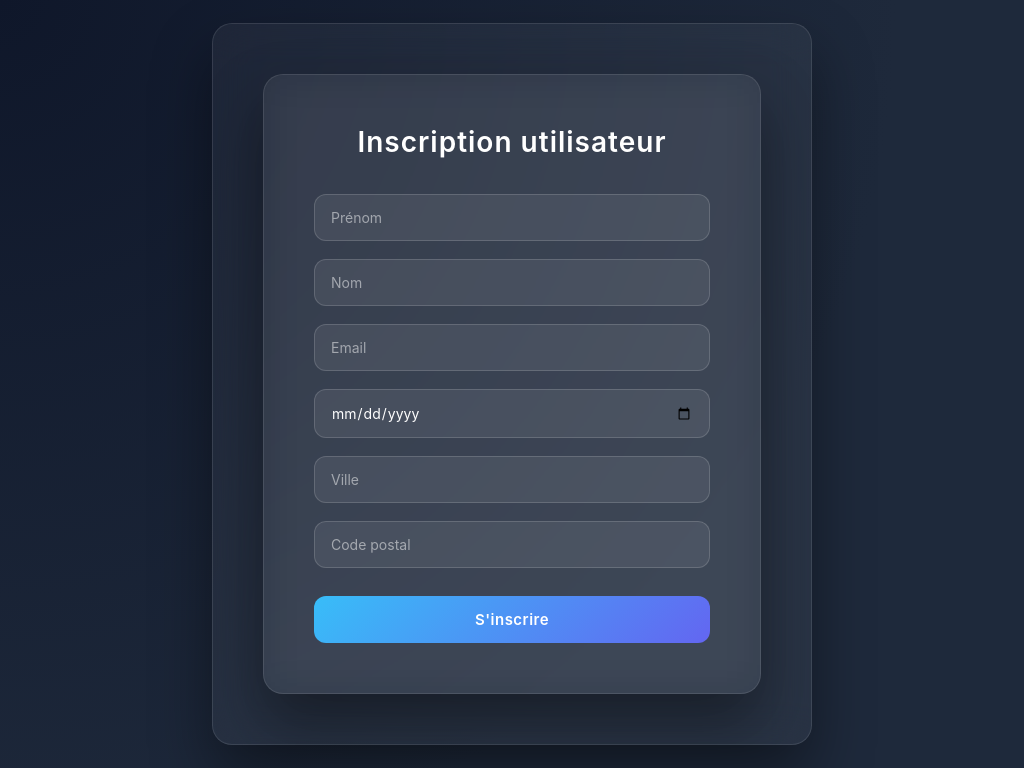
Test: RegisterForm › affiche erreur si code postal invalide
Step 1. Type "John" into the field with placeholder "Prénom" → (512, 218), box [314,194,710,241]
Step 2. Type "Doe" into the field with placeholder "Nom" → (512, 282), box [314,259,710,306]
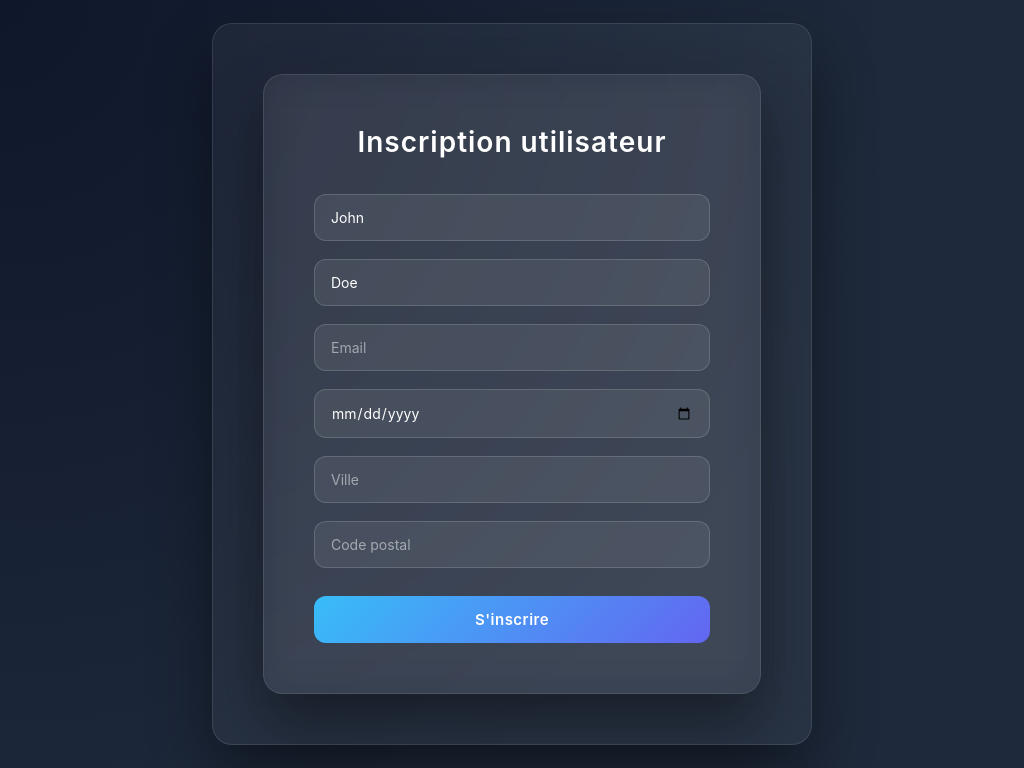
Step 3. Type "john@mail.com" into the field with placeholder "Email" → (512, 348), box [314,324,710,371]
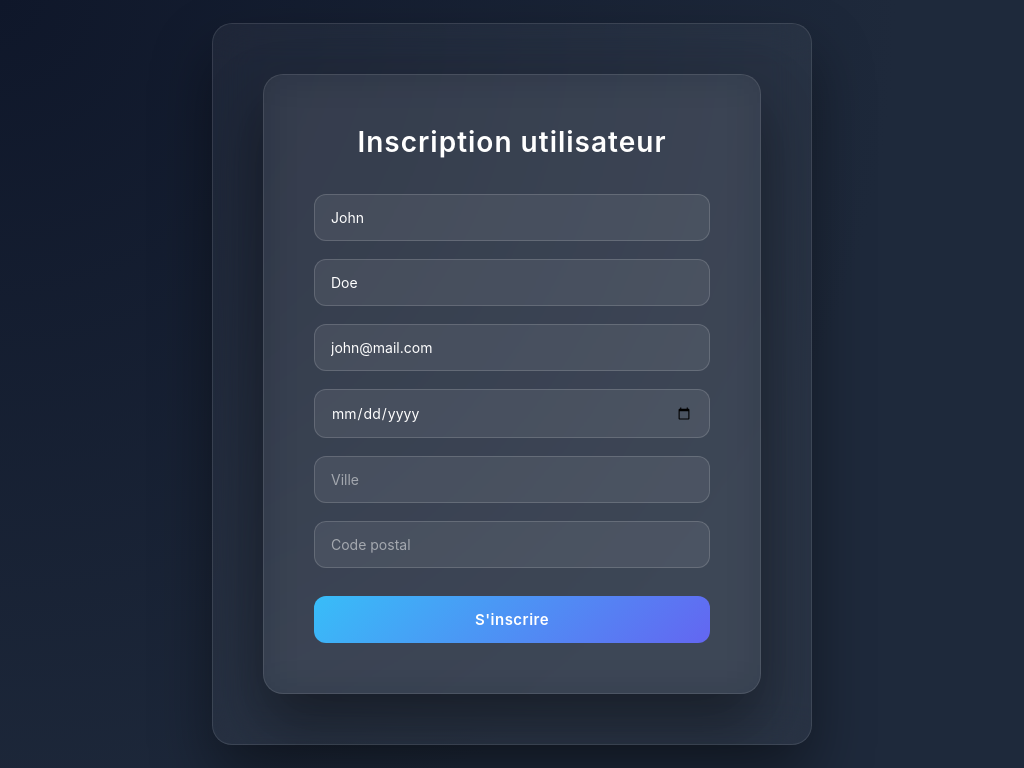
Step 4. Type "2000-01-01" into the date field with test id "birthDate" → (512, 414), box [314,389,710,438]
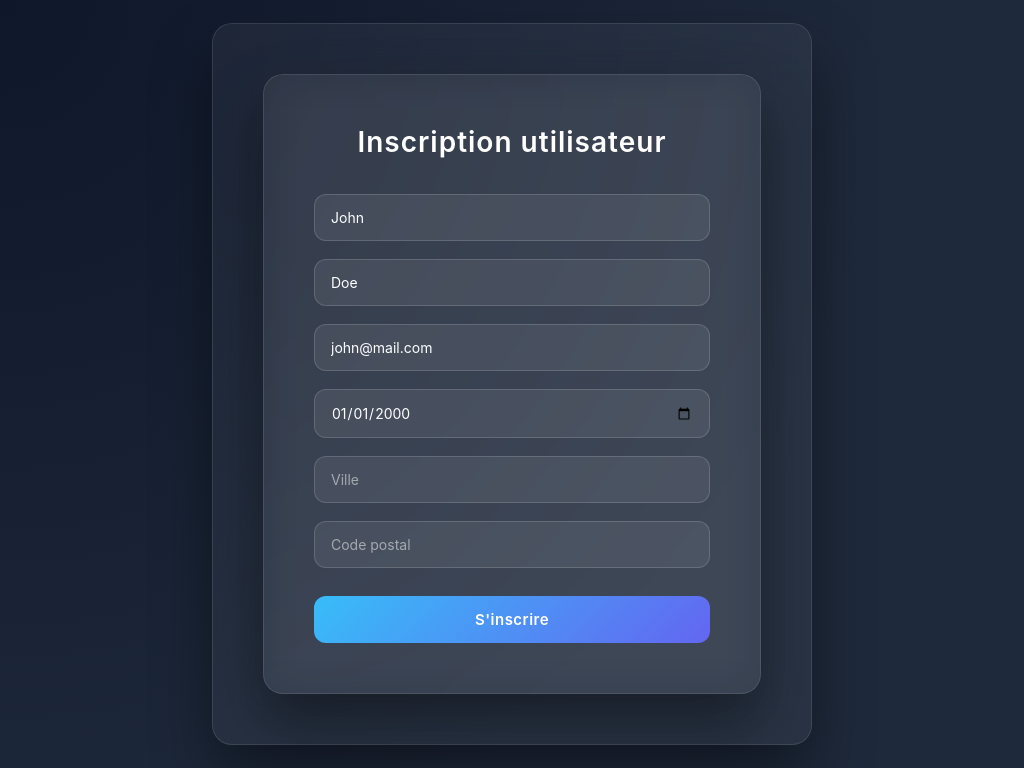
Step 5. Type "Paris" into the field with placeholder "Ville" → (512, 480), box [314,456,710,503]
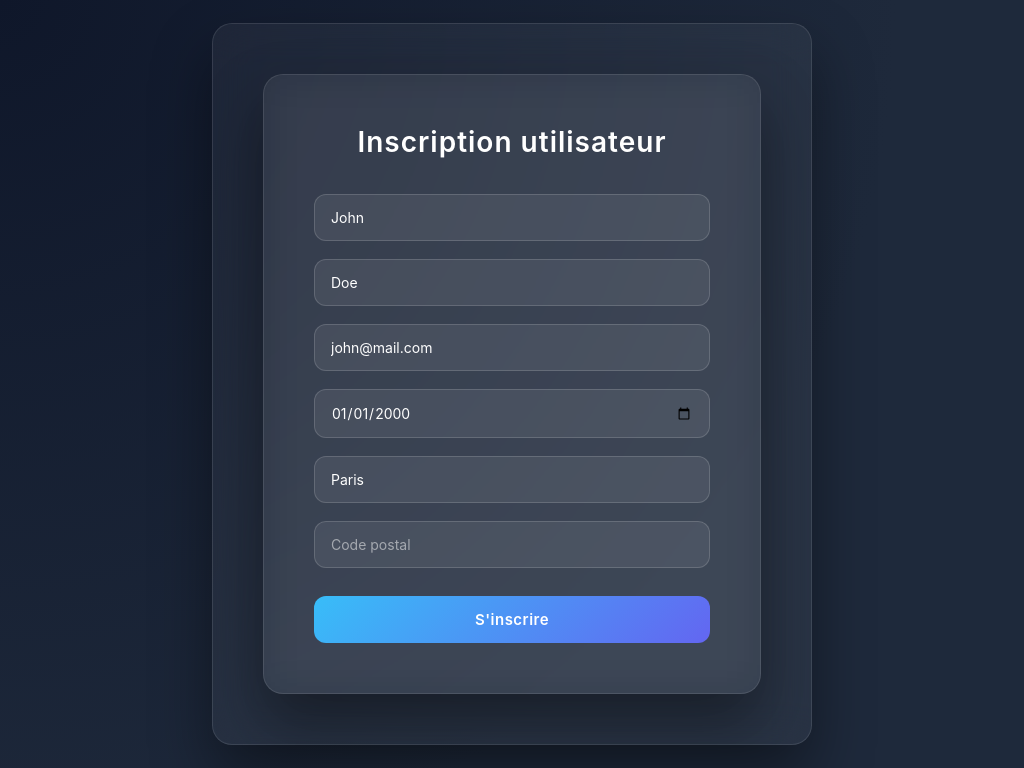
Step 6. Type "abc" into the field with placeholder "Code postal" → (512, 544), box [314,521,710,568]
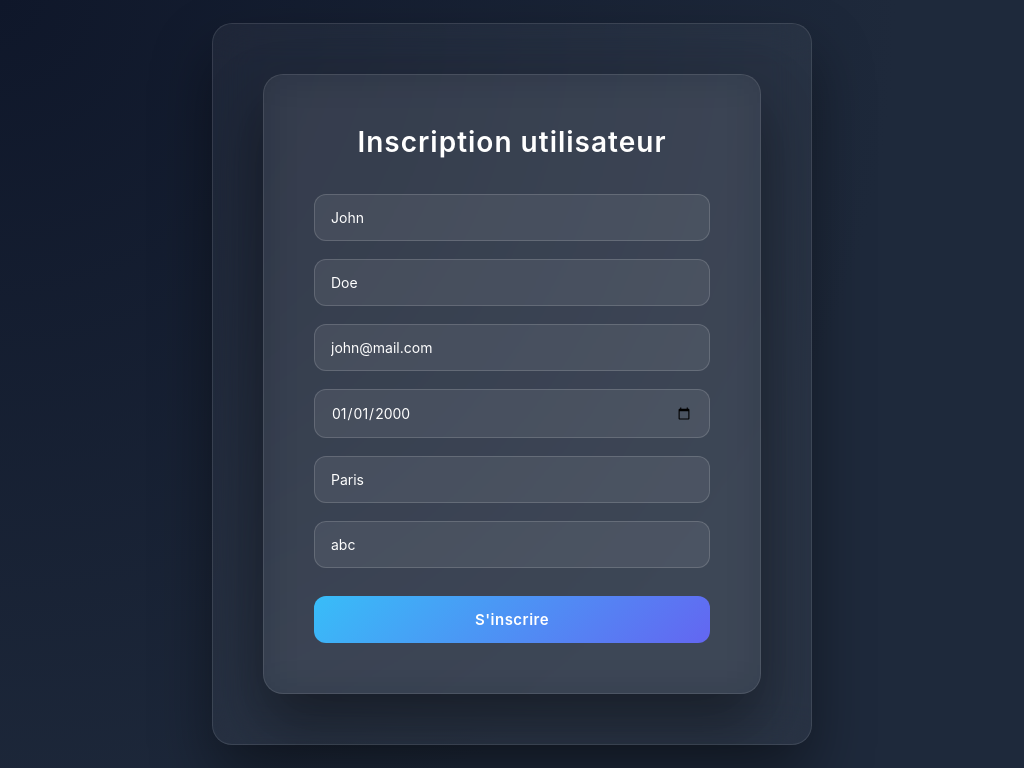
Step 7. Click the button → (512, 620), box [314,596,710,643]
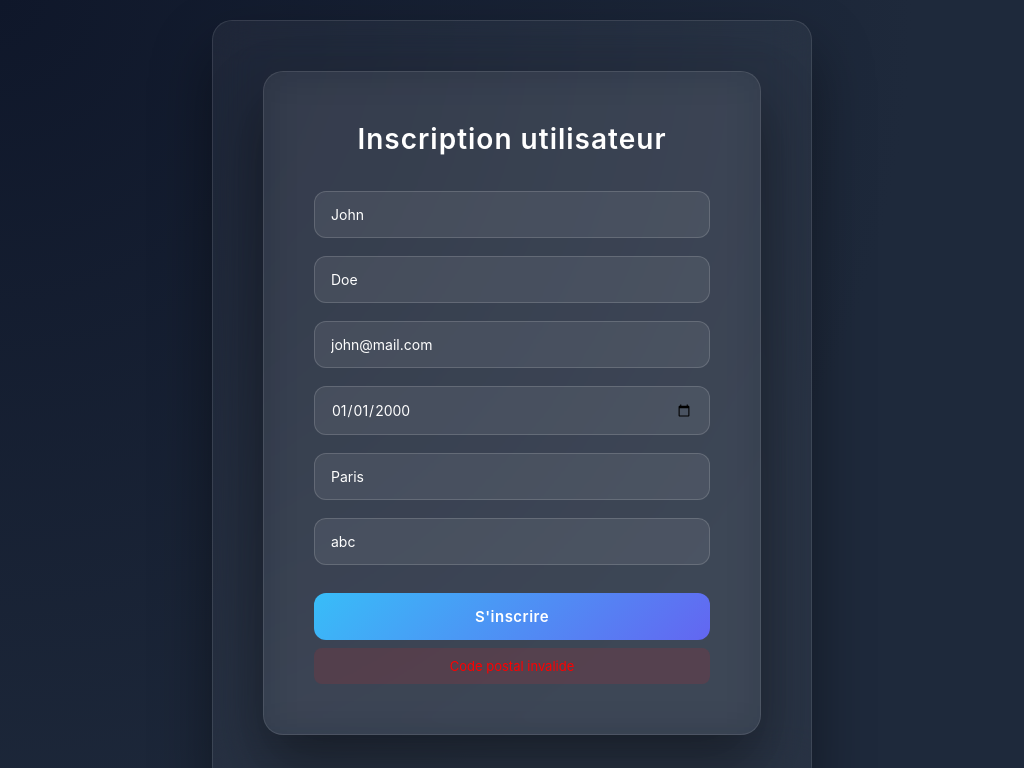
Expected: the text with test id "error" reads "Code postal invalide", [450,658,574,674]
